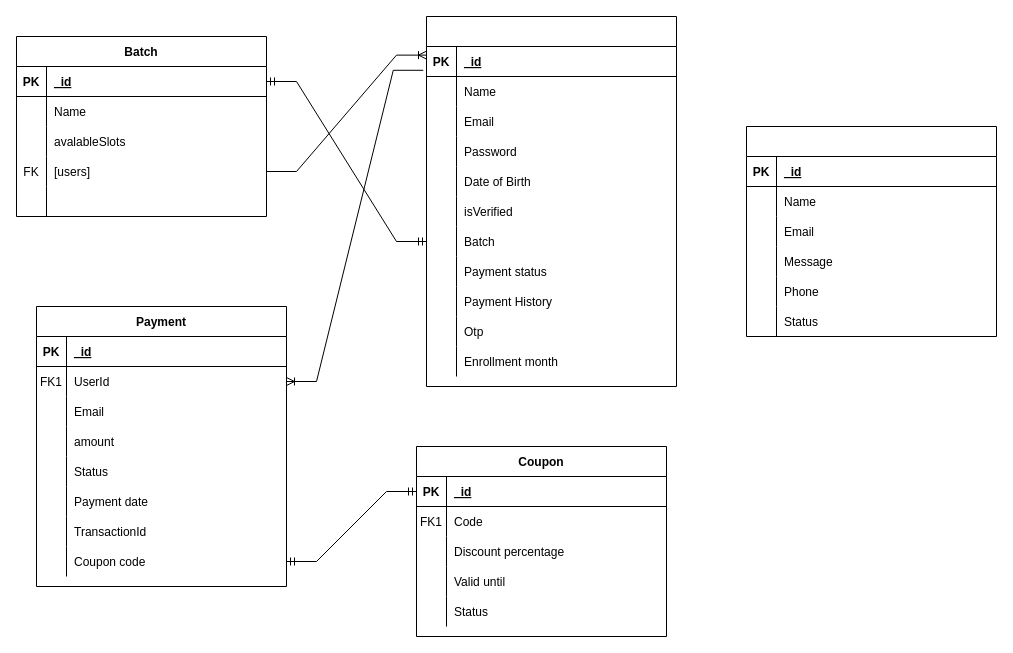
Image size: 1013x653. Some labels were removed from this diagram. Each missing label, with the box of its shape:
Contact: (746, 126, 996, 336)
User: (426, 16, 676, 386)
